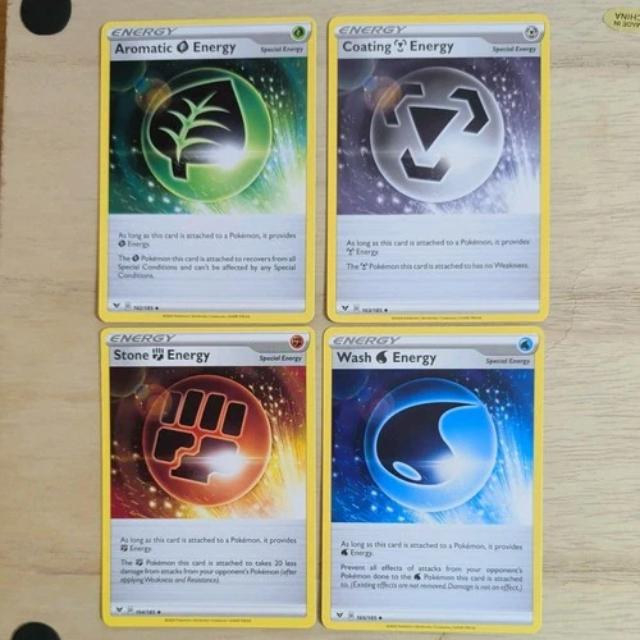Card: (321, 9, 554, 326), (317, 323, 549, 636), (92, 11, 322, 326), (95, 323, 320, 631)
Name: (109, 35, 244, 59), (329, 346, 441, 371), (108, 344, 216, 368), (338, 36, 461, 56)
